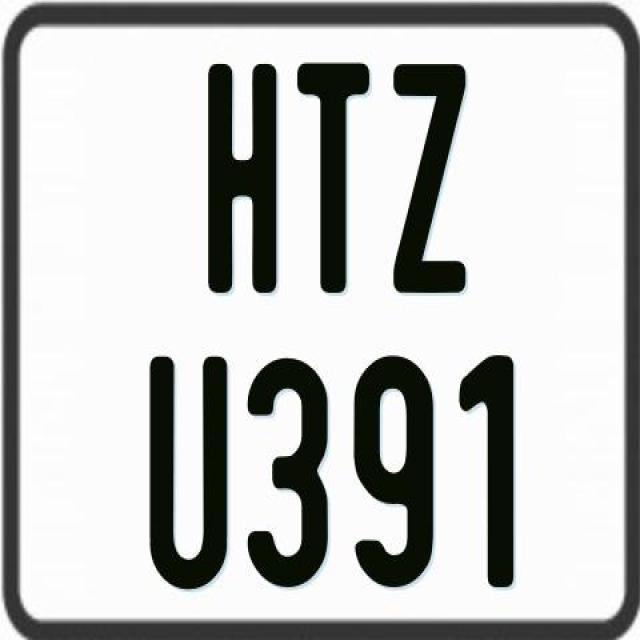1: (458, 356, 514, 596)
3: (245, 353, 334, 588)
9: (352, 353, 440, 592)
H: (205, 64, 279, 299)
T: (297, 60, 375, 298)
U: (145, 354, 228, 590)
Z: (393, 64, 467, 296)
